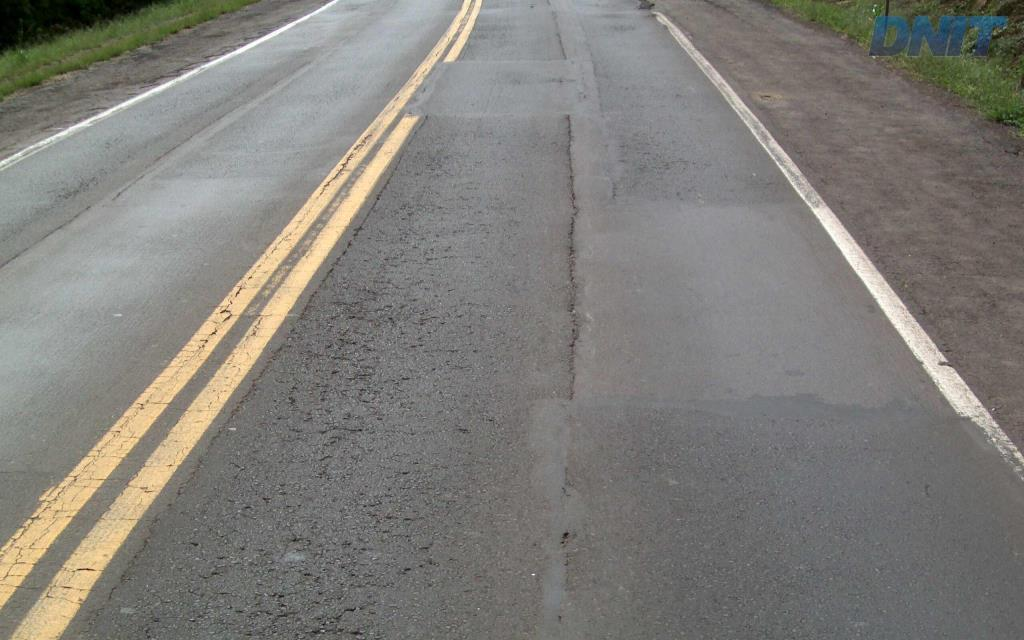crack: (329, 285, 396, 327)
